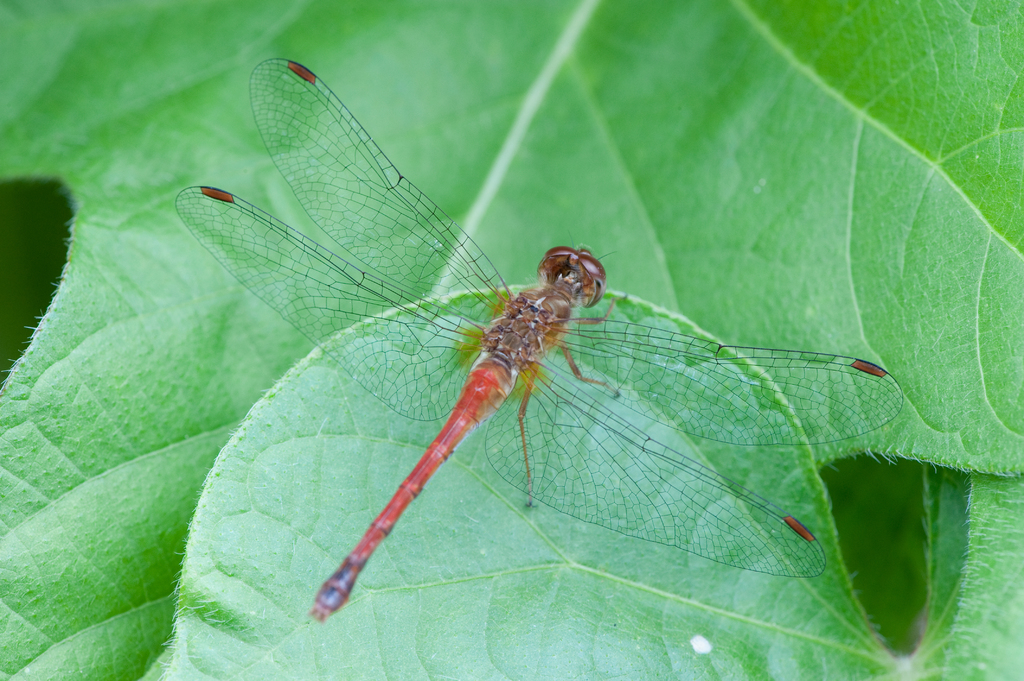person: (452, 244, 610, 423)
